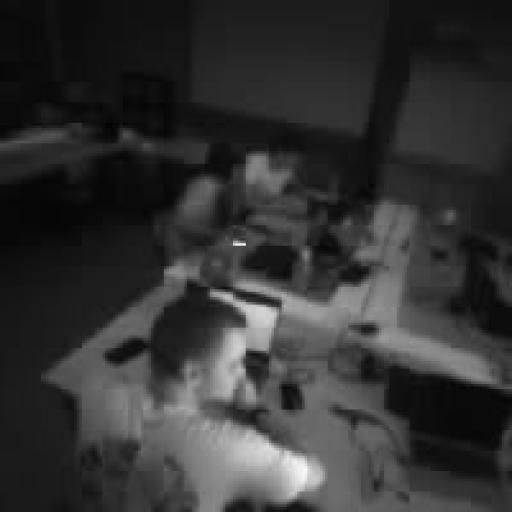human: (77, 295, 325, 511), (154, 144, 238, 263), (236, 131, 304, 209), (497, 418, 511, 509)
